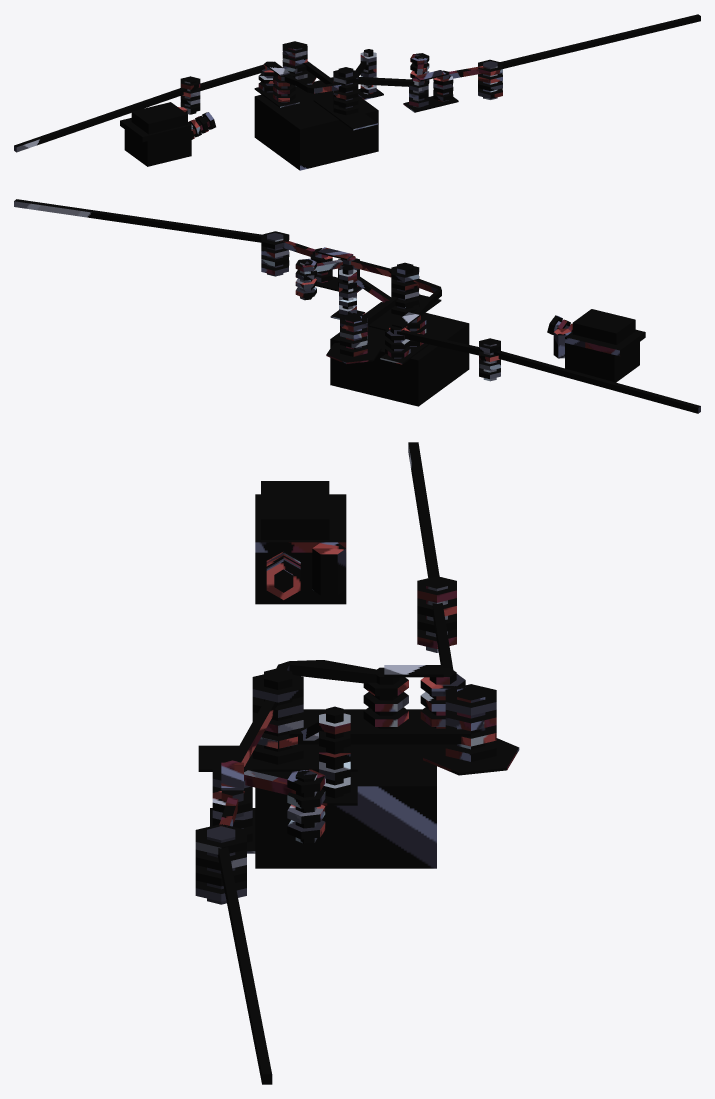
File: ss8_roof_lh.obj
The picture shows the model from 3 angles, top to bottom: view 1: azimuth 30°, elevation 25°; view 2: azimuth 150°, elevation 25°; view 3: azimuth 270°, elevation 25°; orthographic projection. The views are drawn at different scales.
Parts seen in each view (by area): view 1: cube; view 2: cube; view 3: cube.
Part boxes in pixels (box(x1,y1,x2,y2)): cube: box(14, 14, 700, 170); cube: box(14, 199, 700, 413); cube: box(195, 442, 519, 1084).
Size of the model in its own units: 8.24 by 1.01 by 1.78.
